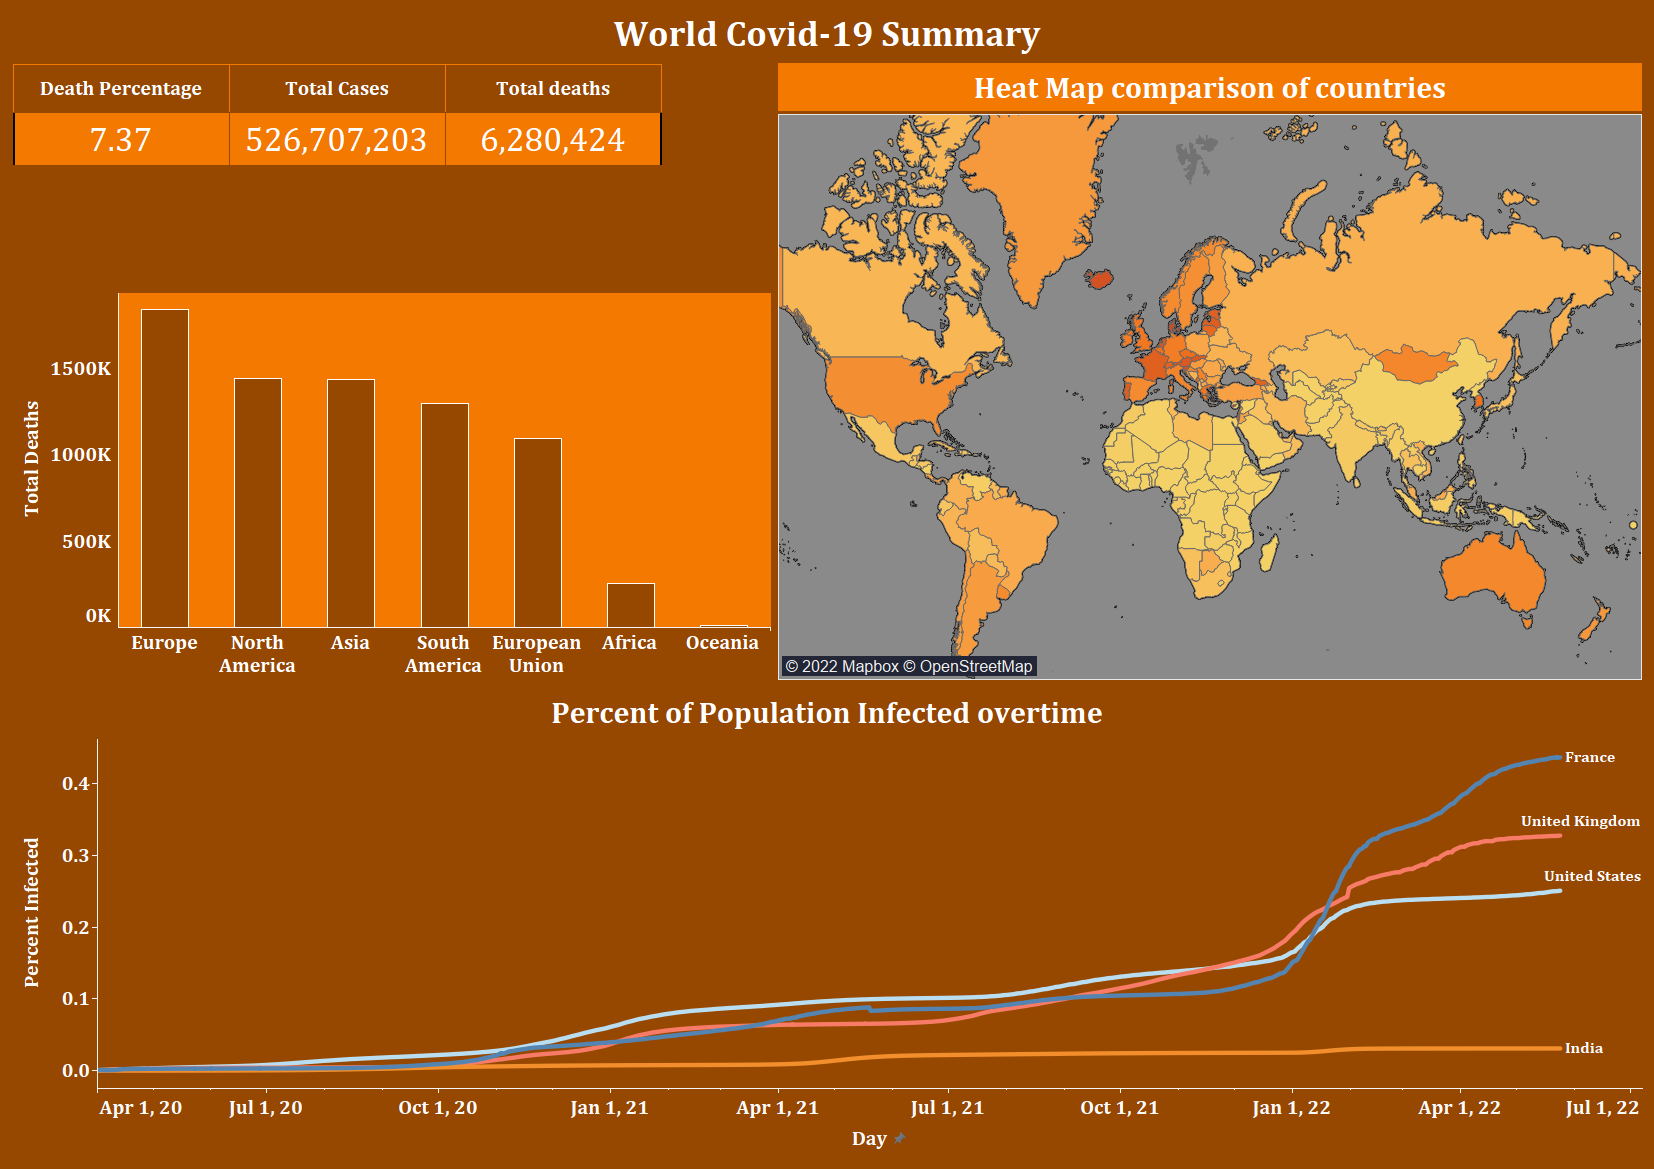

Layout of this report page (visuals, bound fields, positions):
{"tool":"tableau","page":{"name":"Dashboard 2","canvas":[1654,1169],"ordinal":1},"visuals":[{"type":"title","box":[8,8,1638,51]},{"type":"worksheet","title":"Sheet 2","mark":"Automatic","box":[8,59,766,230.3]},{"type":"worksheet","title":"Sheet 4","mark":"Multipolygon","box":[774,59,872,625.1]},{"type":"worksheet","title":"Sheet 3","mark":"Automatic","rows":["Total Death Count"],"cols":["Location"],"box":[8,289.3,766,394.7]},{"type":"worksheet","title":"Sheet 6","mark":"Automatic","rows":["Percent_Infected"],"cols":["date"],"box":[8,684.1,1638,476.9]}]}

Visuals, with their boxes in screenshot pixels (x1, y1, x2, y2), scaled from the page's 1654x1169 canvas onto the 1654x1169 screenshot:
title: rect(8, 8, 1646, 59)
"Sheet 2" worksheet: rect(8, 59, 774, 289)
"Sheet 4" worksheet (Multipolygon marks): rect(774, 59, 1646, 684)
"Sheet 3" worksheet: rect(8, 289, 774, 684)
"Sheet 6" worksheet: rect(8, 684, 1646, 1161)
